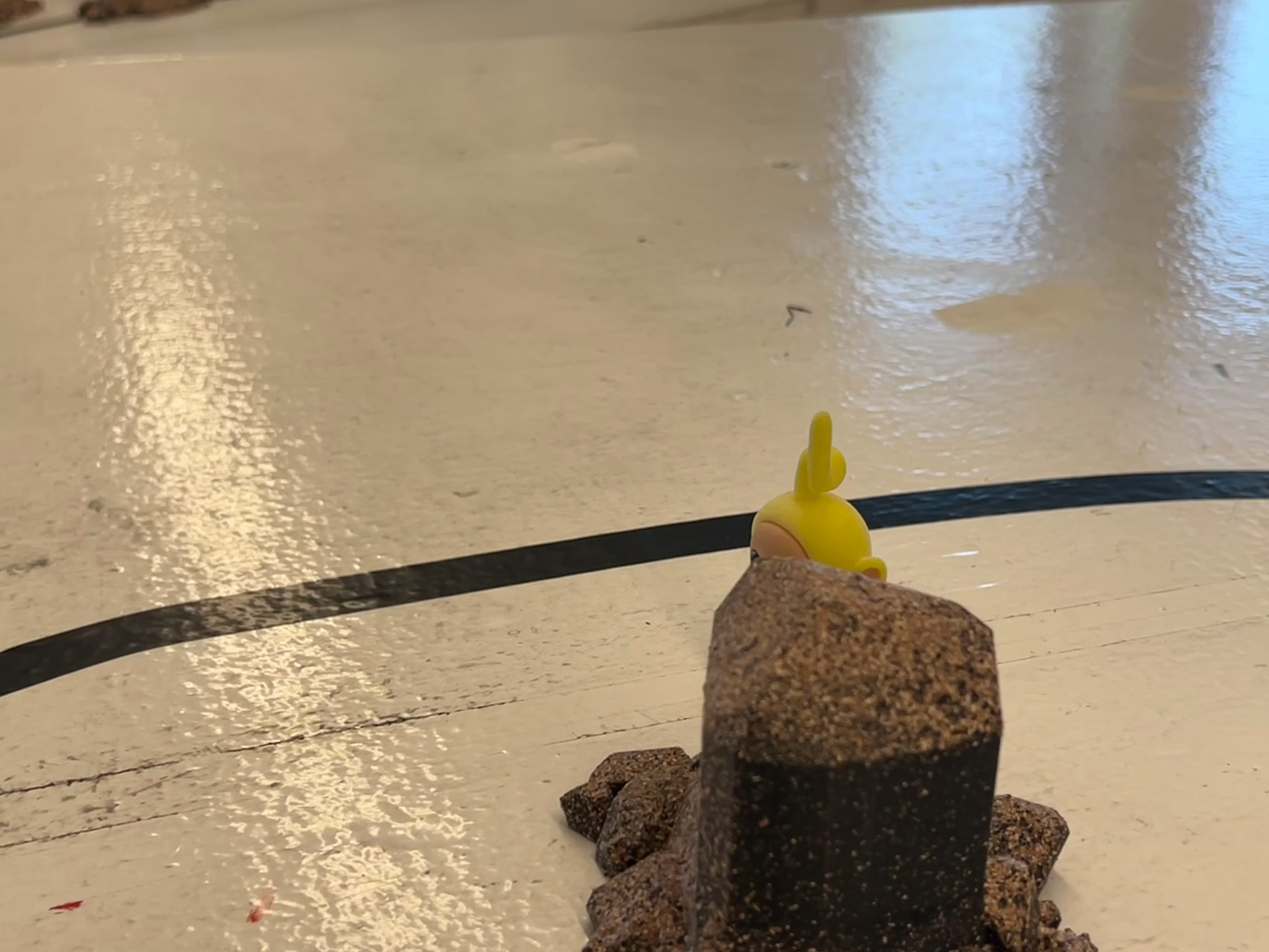teletubby: (750, 412, 886, 579)
